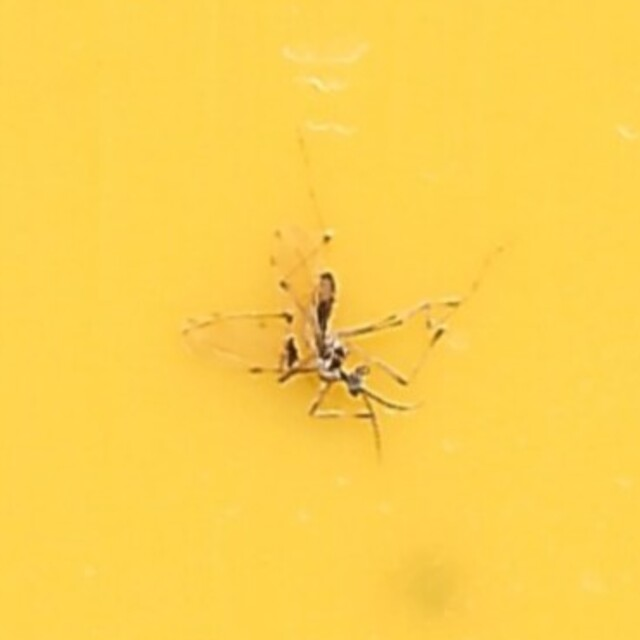Nematocera: (173, 192, 467, 448)
